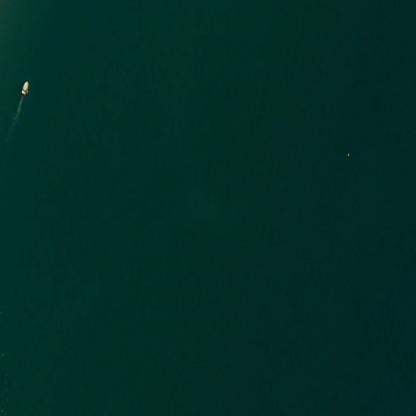ship: (17, 74, 33, 98)
